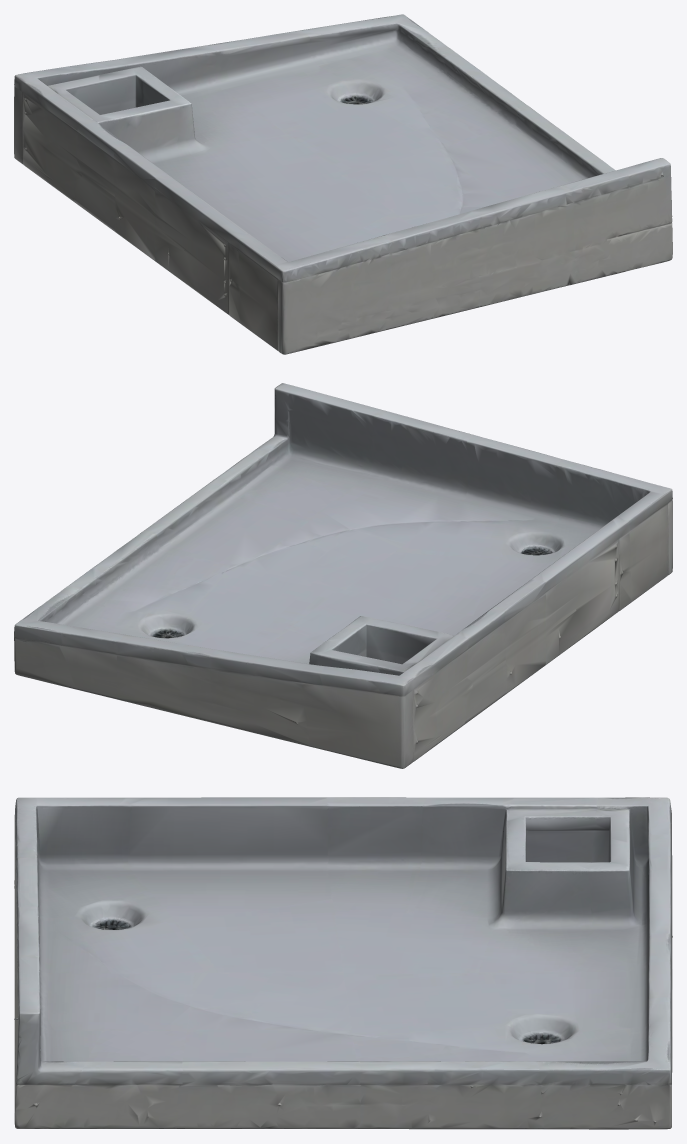
File: boq-roof.glb
3 renders of one model, top to bottom at view 1: azimuth 30°, elevation 25°; view 2: azimuth 150°, elevation 25°; view 3: azimuth 270°, elevation 25°, orthographic. The views are drawn at different scales.
Visible parts, largest first — view 1: tripo_node_ad25d328-30ca-4a99-893b-fce0045aa261; view 2: tripo_node_ad25d328-30ca-4a99-893b-fce0045aa261; view 3: tripo_node_ad25d328-30ca-4a99-893b-fce0045aa261.
Boxes of the visible parts, <box> form: tripo_node_ad25d328-30ca-4a99-893b-fce0045aa261: <box>14,14,672,354</box>; tripo_node_ad25d328-30ca-4a99-893b-fce0045aa261: <box>14,383,672,768</box>; tripo_node_ad25d328-30ca-4a99-893b-fce0045aa261: <box>14,797,672,1129</box>.
Bounding box in the file's own units: 0.836 × 0.1997 × 0.9999.
1 material, 1 textured.
